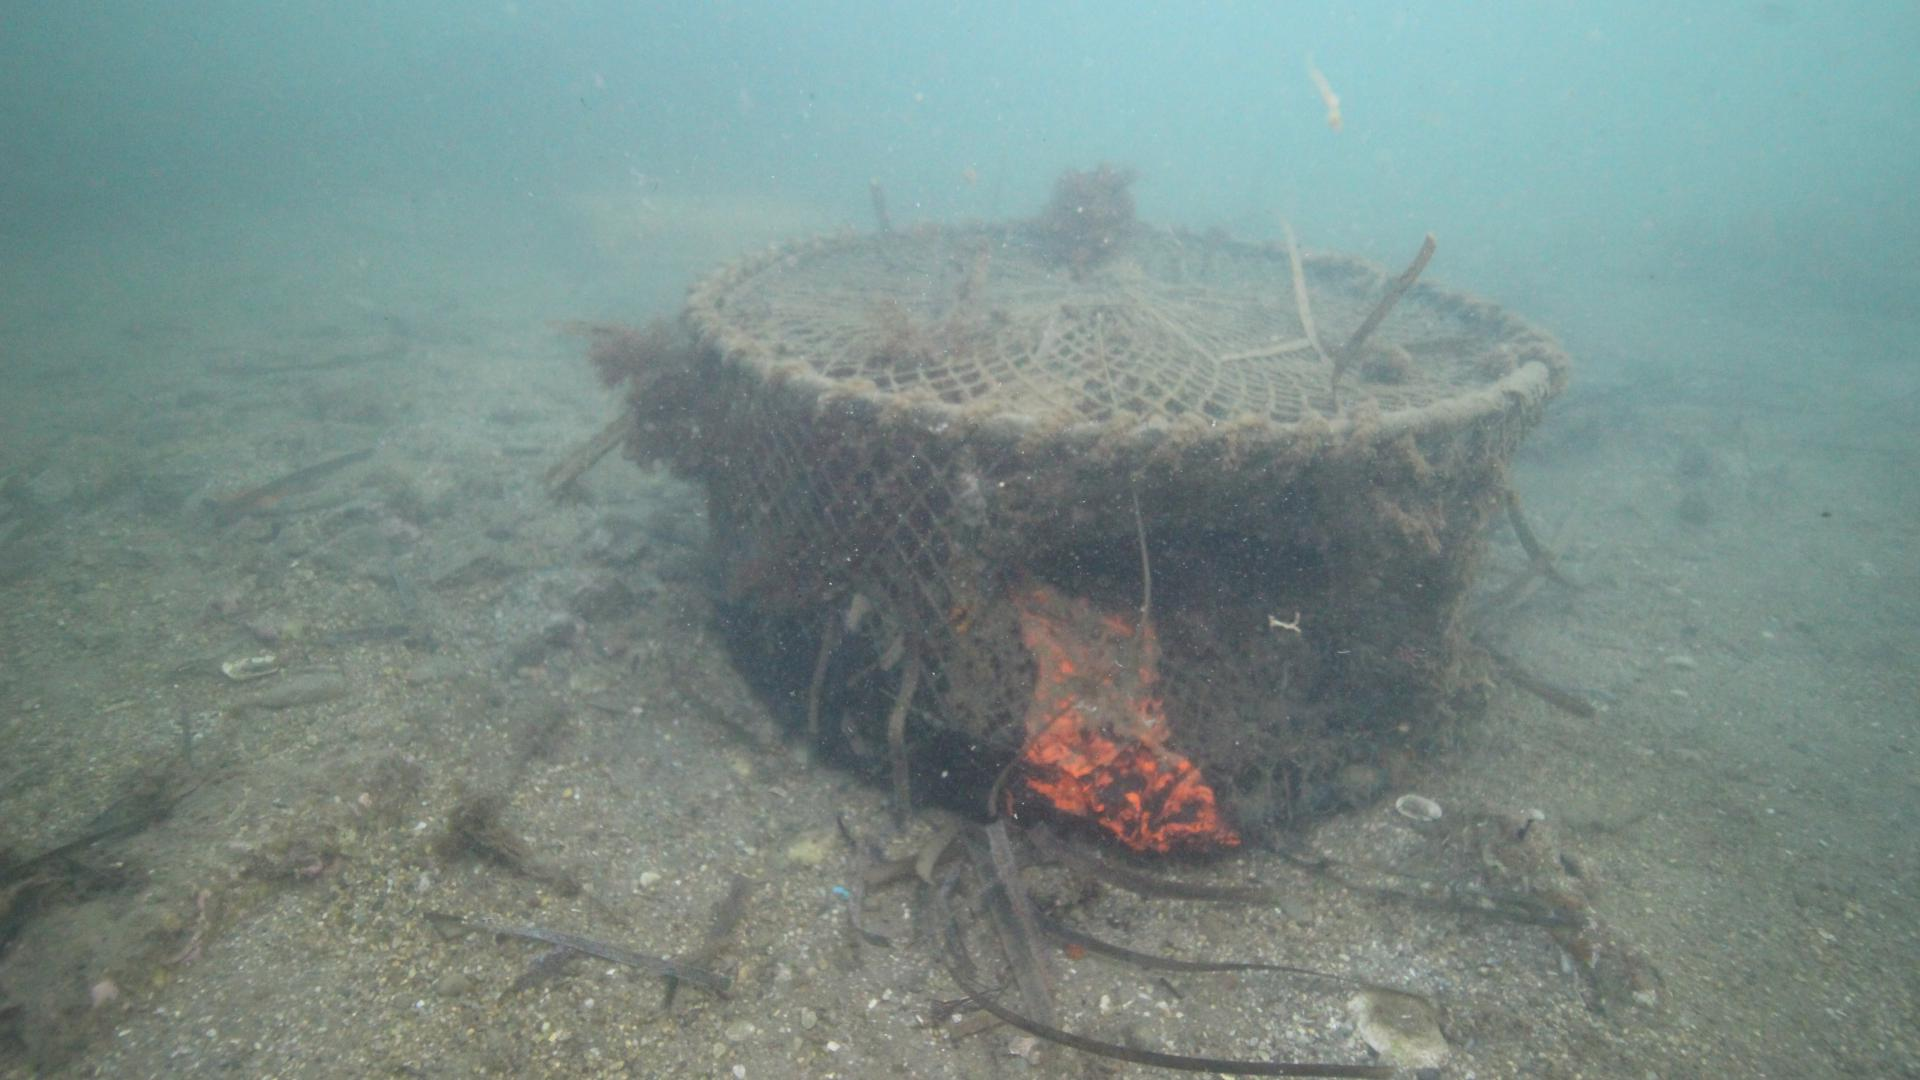circular fish trap: (679, 218, 1571, 832)
